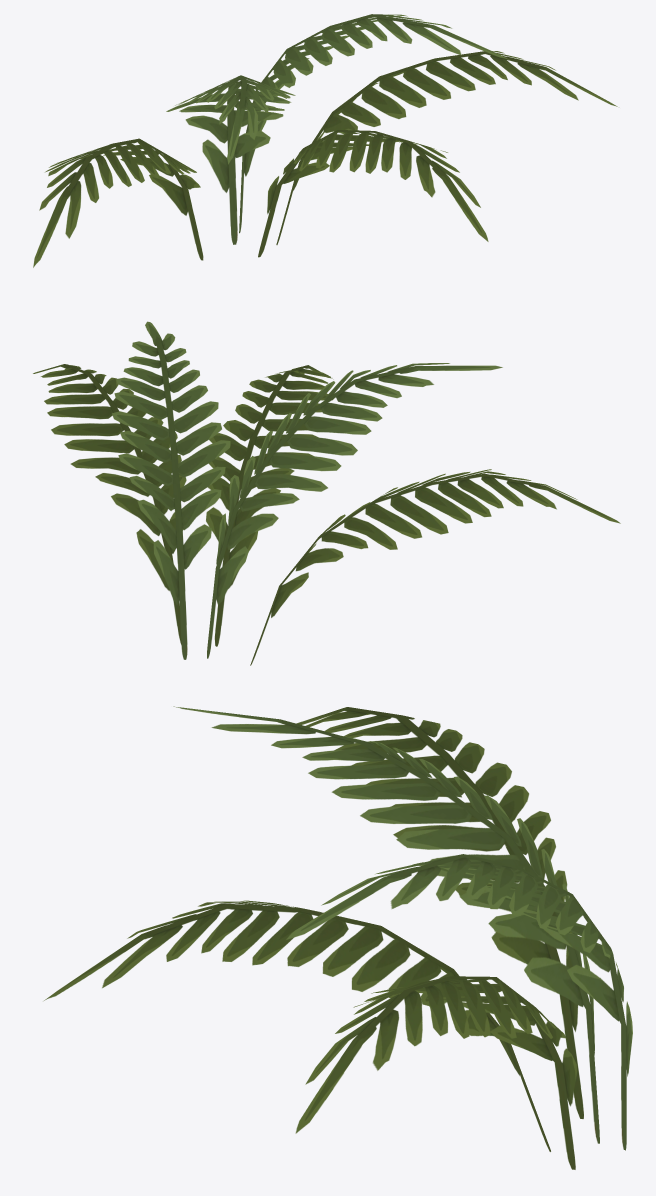
Rendered from enchanted_SM_Env_Fern_03.gltf.
3 renders of one model, top to bottom at view 1: azimuth 30°, elevation 25°; view 2: azimuth 150°, elevation 25°; view 3: azimuth 270°, elevation 25°, orthographic. The views are drawn at different scales.
Visible parts, largest first — view 1: SM_Env_Fern_03_LOD0; view 2: SM_Env_Fern_03_LOD0; view 3: SM_Env_Fern_03_LOD0.
Part boxes in pixels (x1=…): SM_Env_Fern_03_LOD0: x1=33, y1=14, x2=617, y2=267; SM_Env_Fern_03_LOD0: x1=33, y1=321, x2=620, y2=665; SM_Env_Fern_03_LOD0: x1=44, y1=706, x2=632, y2=1169.
Size of what is drawn, in the model's own units: 1.47 by 0.556 by 0.8875.
Materials: 1 (1 with a texture image).
